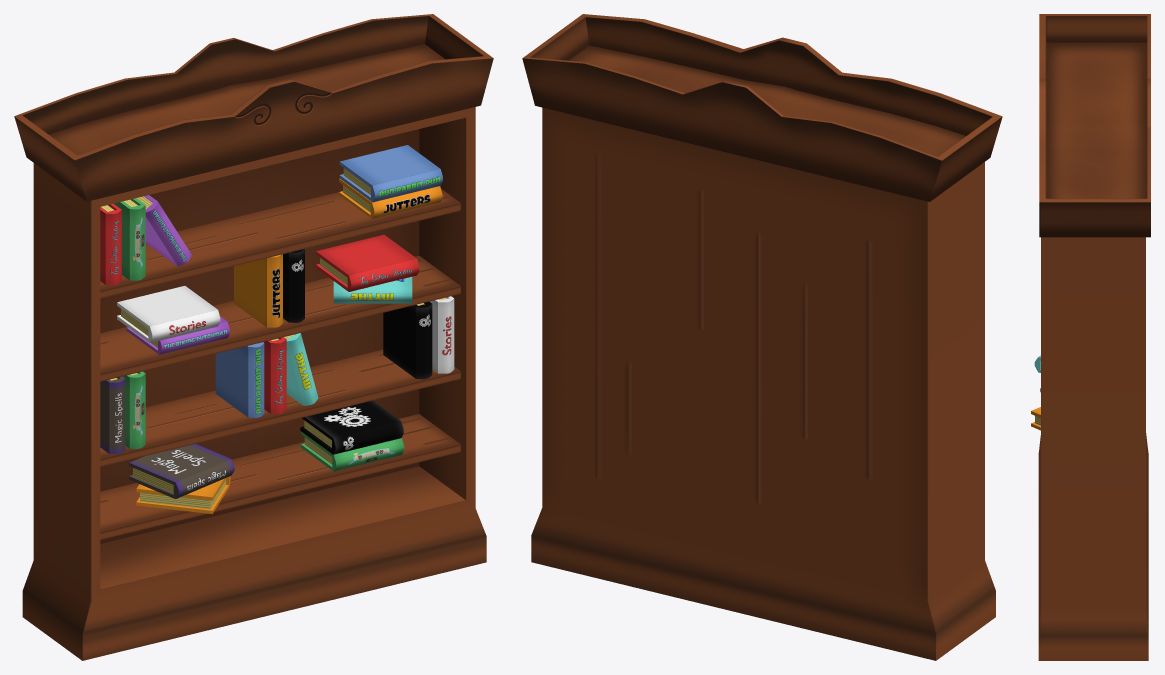
File: Boekenkast.fbx
3 renders of one model, left to right at view 1: azimuth 30°, elevation 25°; view 2: azimuth 150°, elevation 25°; view 3: azimuth 270°, elevation 25°, orthographic. The views are drawn at different scales.
Parts seen in each view (by area): view 1: Boek44; view 2: Boek44; view 3: Boek44.
Boxes of the visible parts, x1,y1,x2,y2 form: Boek44: [14, 14, 493, 660]; Boek44: [522, 14, 1002, 660]; Boek44: [1031, 14, 1150, 660].
Bounding box in the file's own units: 9.92 × 11.92 × 2.67.
Materials: 10 (10 with a texture image).
